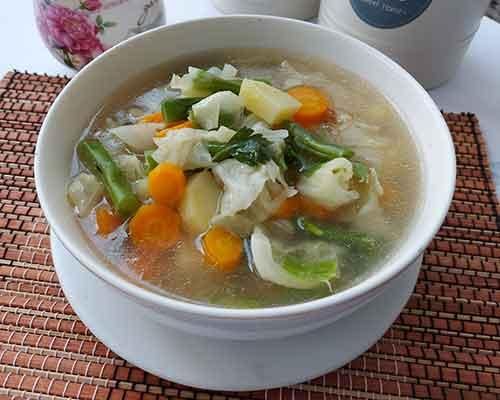buah_sayur_vitA: (128, 204, 178, 254), (155, 168, 184, 202)
